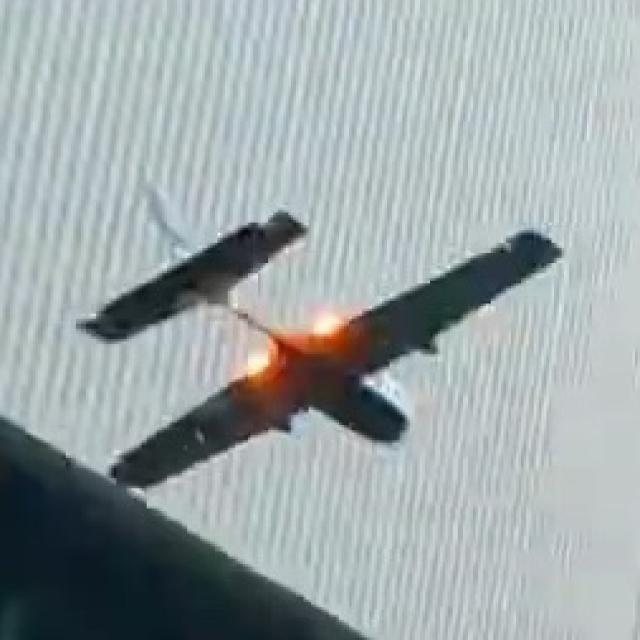iha: (76, 163, 564, 477)
